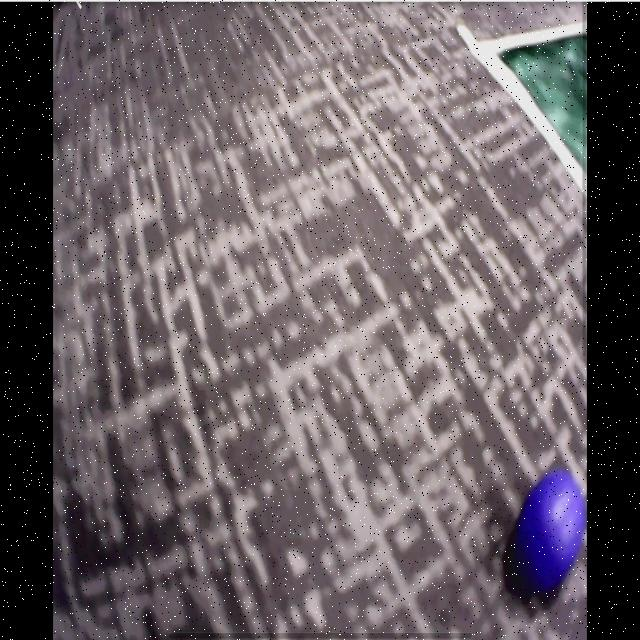ball: (524, 471, 585, 588)
